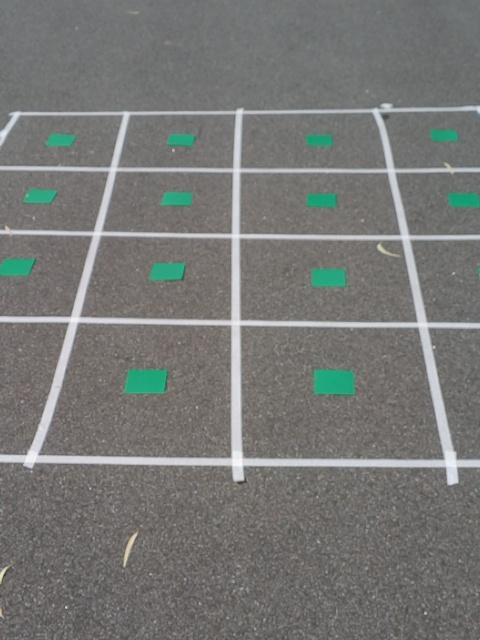weed: (308, 366, 359, 398), (123, 364, 170, 398), (309, 263, 348, 288), (148, 262, 189, 280), (0, 260, 34, 280), (303, 191, 338, 210), (44, 131, 79, 149), (160, 190, 196, 207), (448, 190, 480, 209), (23, 187, 59, 203), (169, 131, 194, 148), (430, 128, 459, 142), (308, 132, 331, 147)
